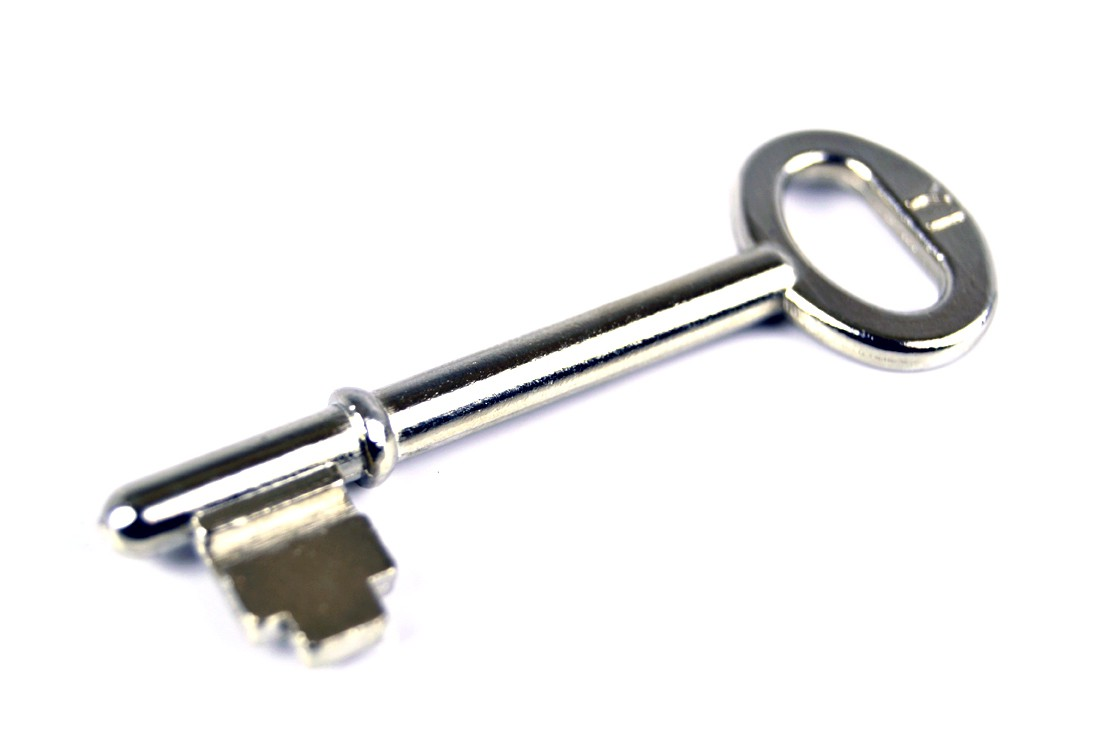key: (100, 129, 998, 669)
